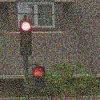traffic lights: (18, 20, 34, 57), (31, 63, 46, 89)
